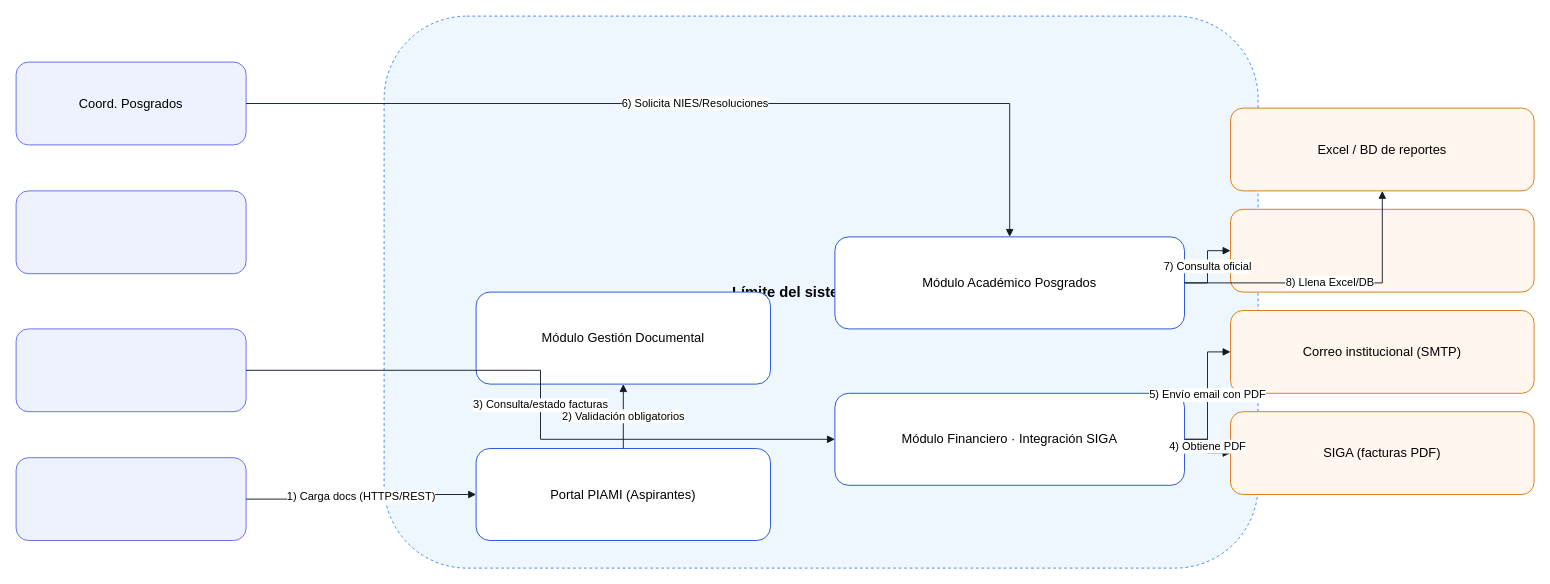
Some shapes in this 1550 by 584 pixel diagram are drawn without their labels. The box of each missing label's shape, as (x1, y1, x2, y2) in pixels:
Aspirante: (15, 457, 246, 540)
Estudiante: (15, 328, 246, 412)
MEN / Registros oficiales: (1230, 208, 1534, 292)
Área Financiera: (15, 190, 246, 274)
